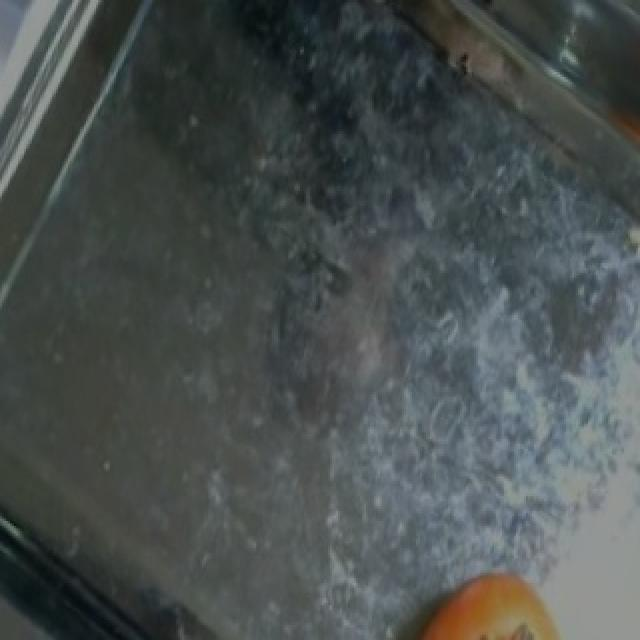Fruit: (398, 558, 586, 640)
